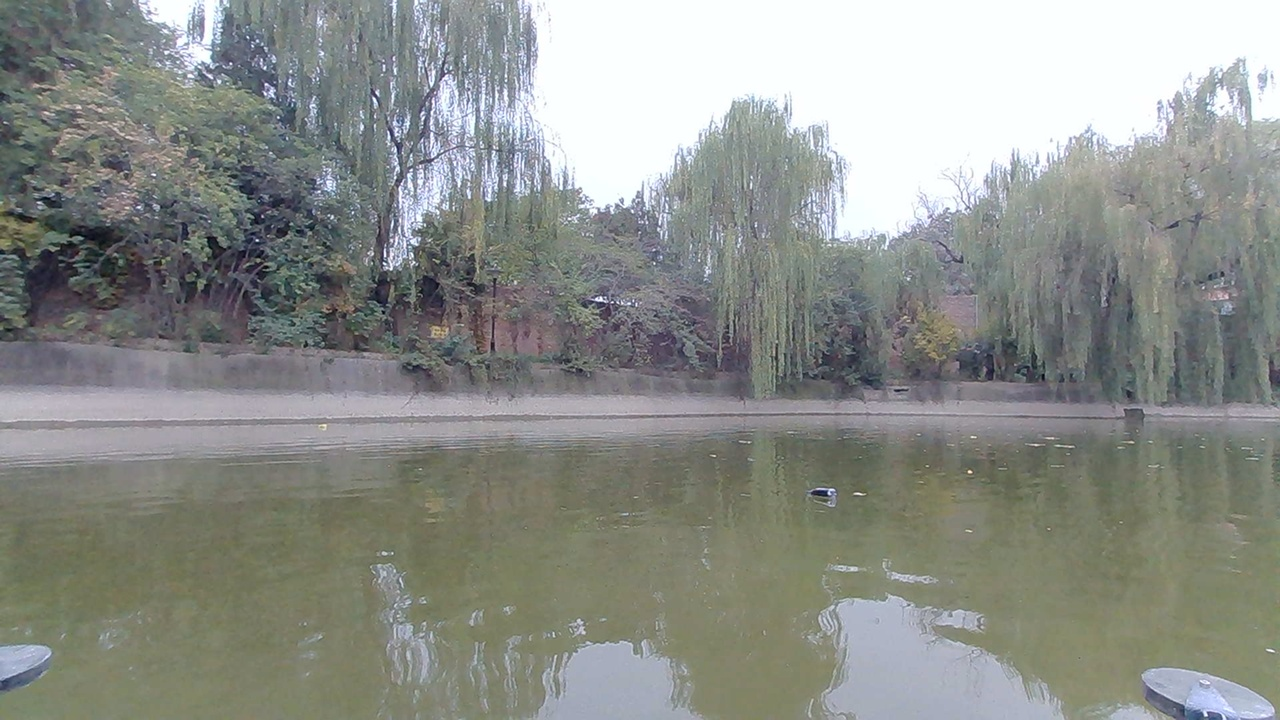bottle: (811, 483, 839, 509)
